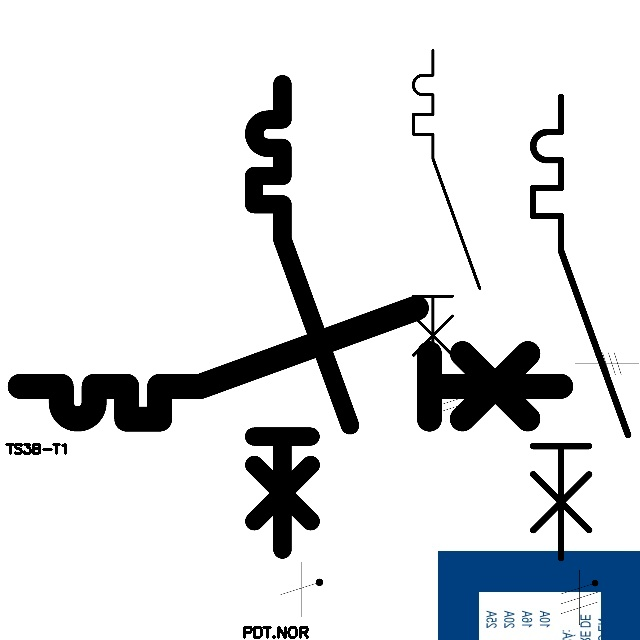interruptor_termomagnetico: (6, 294, 574, 433), (242, 72, 362, 562), (521, 85, 640, 570), (405, 42, 488, 383)
